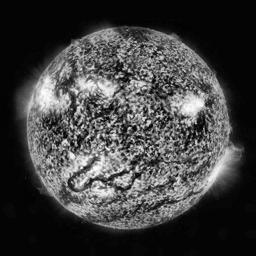solar flares: (175, 92, 206, 121), (37, 84, 56, 112), (99, 83, 118, 103), (66, 153, 91, 167), (76, 79, 96, 96)
sunspots: (46, 116, 64, 139), (123, 27, 145, 45), (195, 113, 208, 141), (116, 64, 132, 80), (147, 157, 161, 168), (99, 108, 110, 121), (198, 83, 208, 93)
